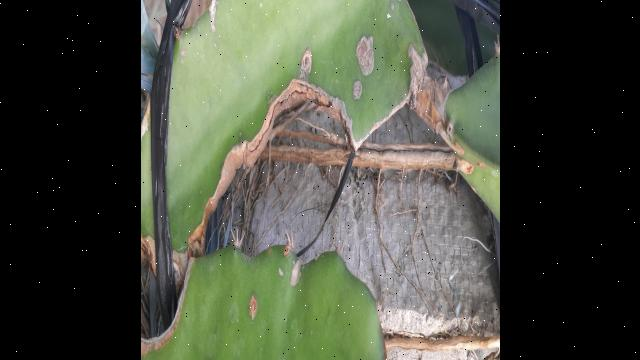stemcanker: (354, 33, 377, 77), (293, 46, 315, 84), (246, 290, 261, 325), (281, 237, 297, 261), (350, 78, 364, 102)
